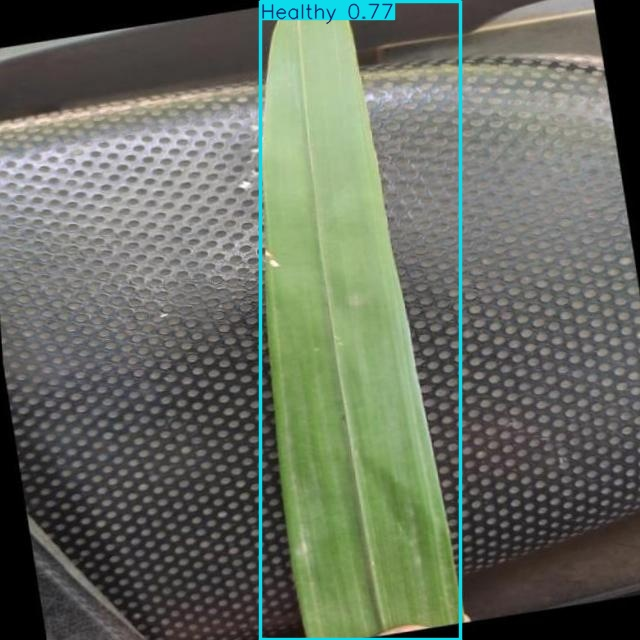Healthy: (261, 1, 460, 640)
